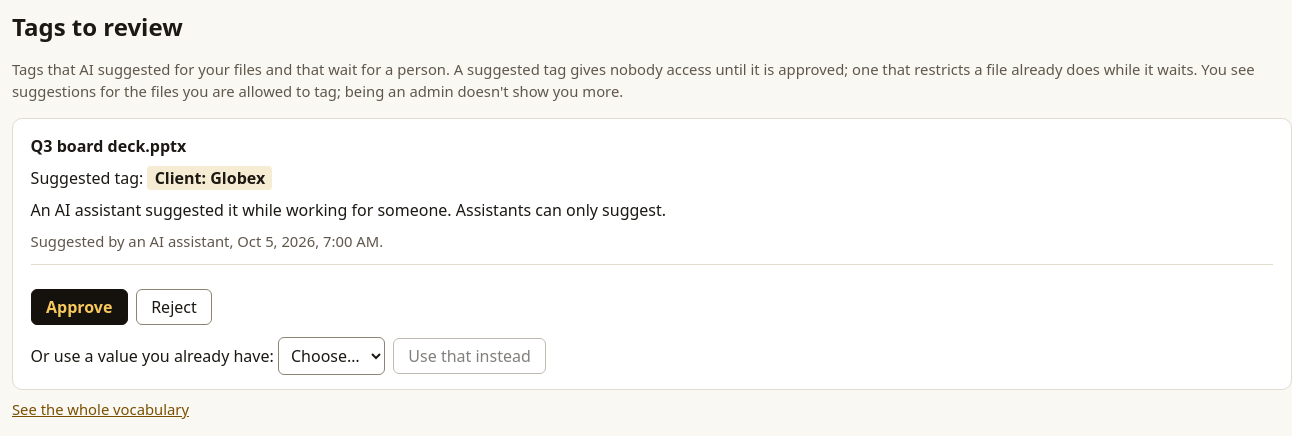
Test: tags to review (T-903) › approves, and says so where the list was
Click the button "Approve" at (79, 307), box [31,289,128,325]
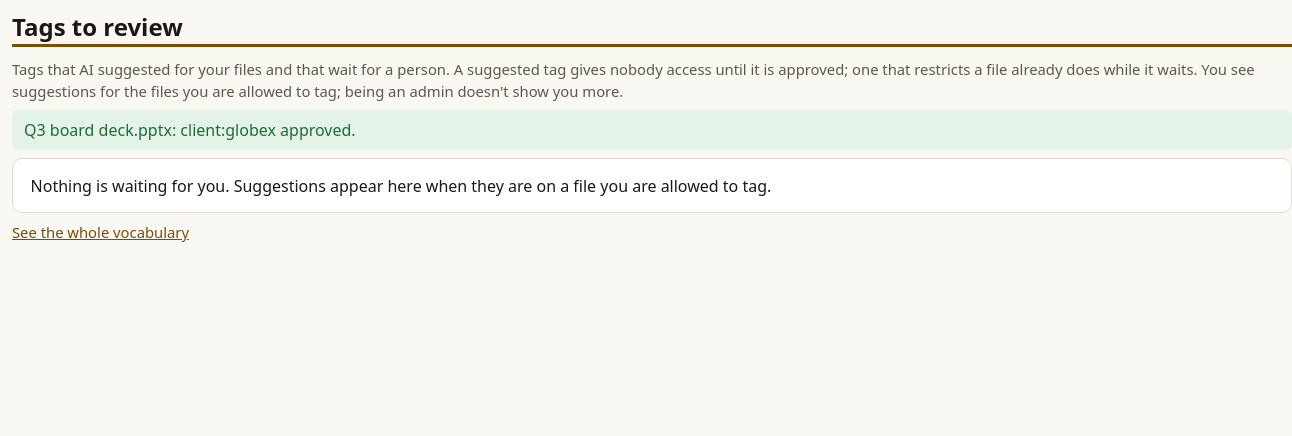
Expected: the message "Q3 board deck.pptx: client:globex approved." is shown, [12,110,1291,150]
Expected: the text "Nothing is waiting for you." is shown, [31,175,771,197]
